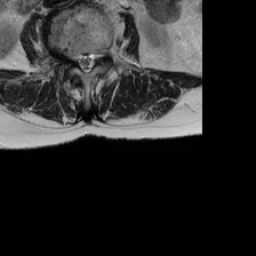CCS_normal: (82, 44, 89, 79)
LFS_normal: (96, 41, 104, 67)
LLS_normal: (89, 42, 96, 74)
RFS_severe_stenosis: (66, 41, 74, 66)
RLS_normal: (74, 43, 82, 72)
